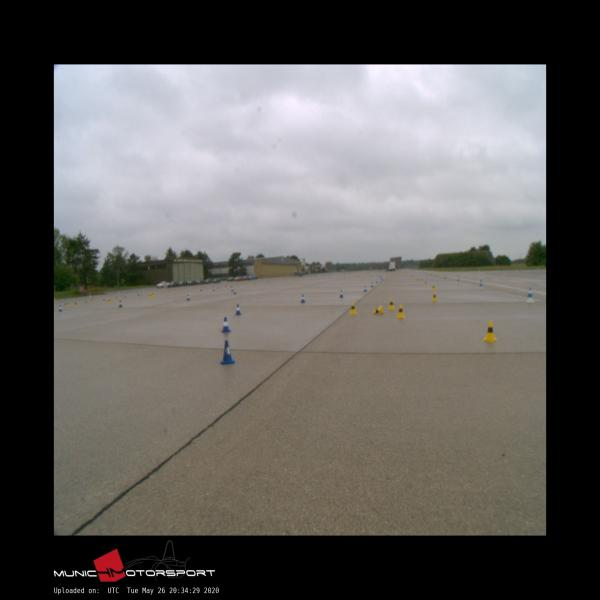blue_cone: (220, 340, 235, 364), (220, 317, 231, 332), (234, 304, 242, 314), (300, 294, 305, 303), (339, 290, 344, 297)
yellow_cone: (482, 321, 496, 342), (396, 304, 405, 318), (348, 301, 357, 314), (372, 305, 384, 314), (388, 299, 394, 309), (432, 292, 437, 301)
